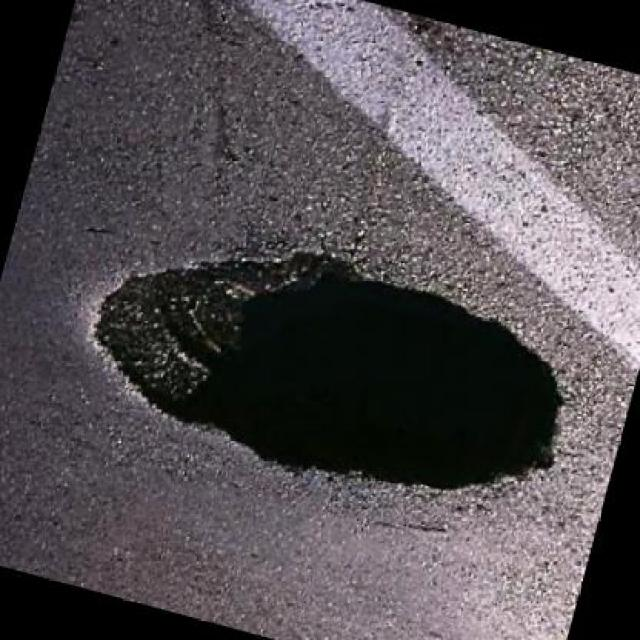pothole1: (55, 192, 596, 548)
